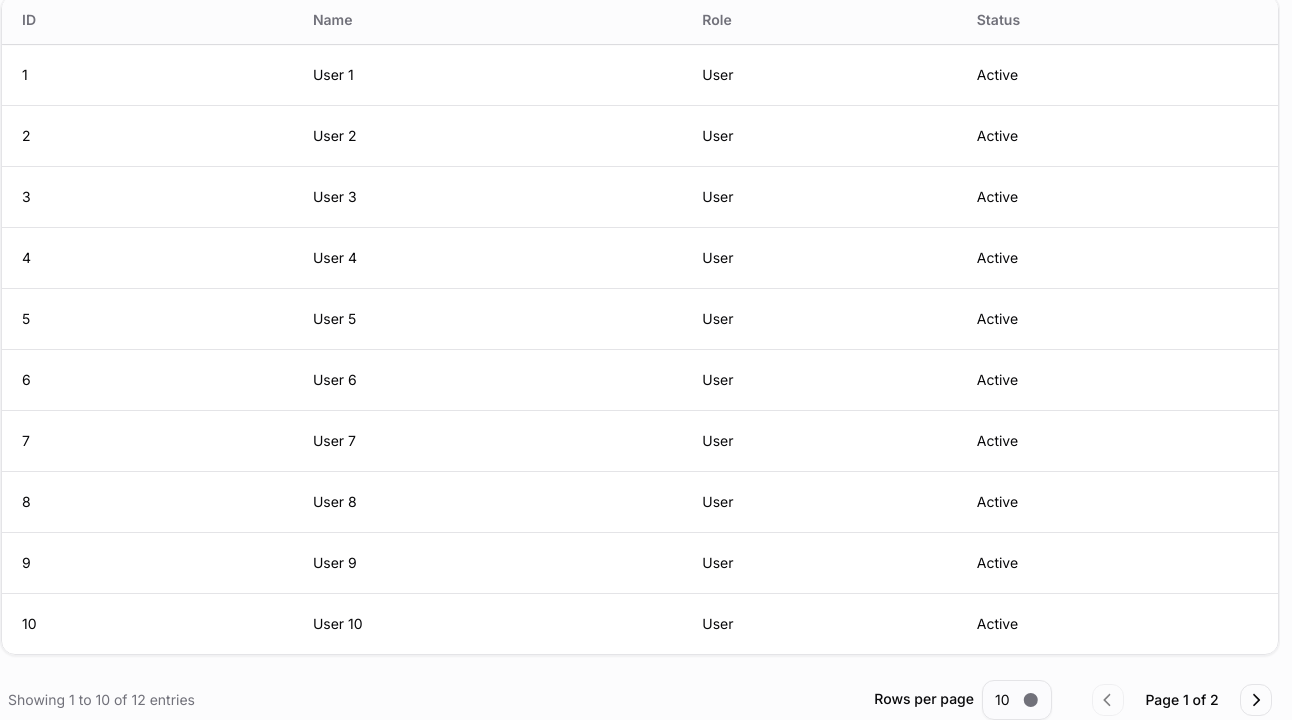
DataTable Component › paginates data based on page size
(page scrolled)
Check: the text "User 10" is shown, box left=293, top=593, right=682, bottom=654
Check: the text "User 11" is not shown
# Click next page
Click the 2nd button named "Go to next page".
click(1256, 700)  # box left=1240, top=684, right=1272, bottom=716
(page scrolled)
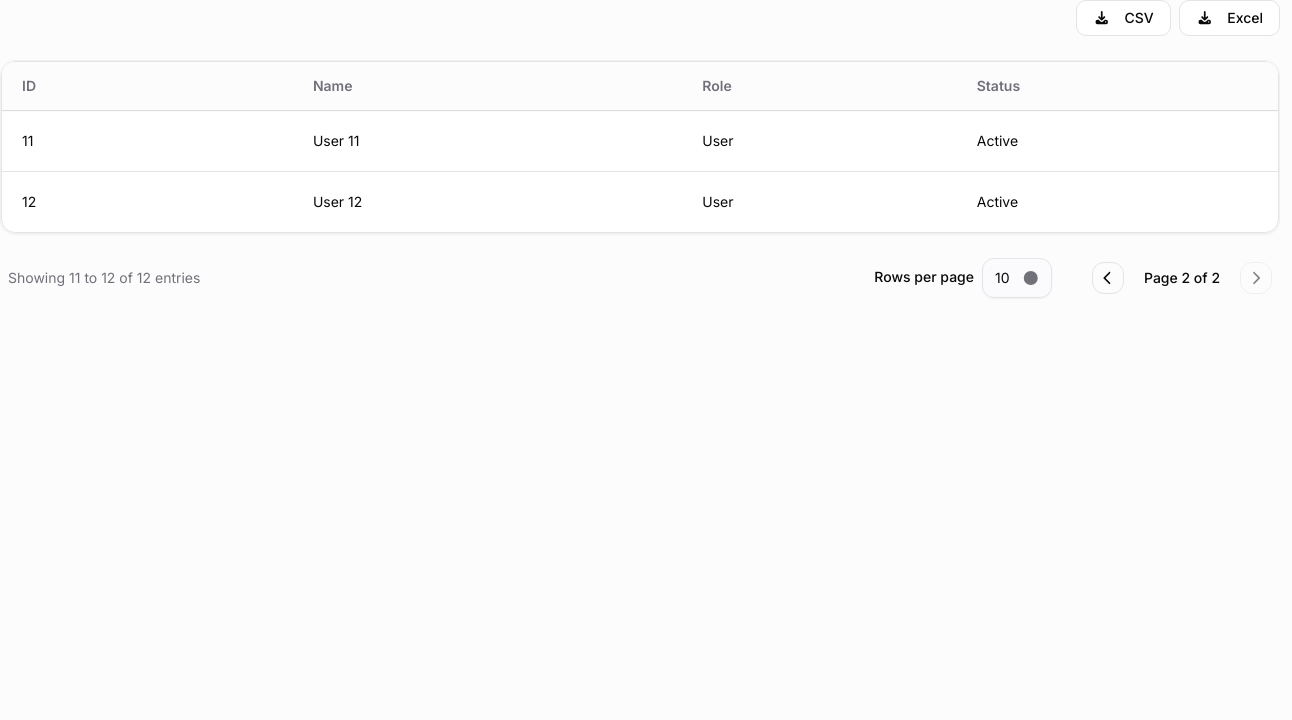
Check: the text "User 10" is gone
Check: the text "User 11" is shown, box left=293, top=110, right=682, bottom=171
Check: the text "User 12" is shown, box left=293, top=171, right=682, bottom=232
